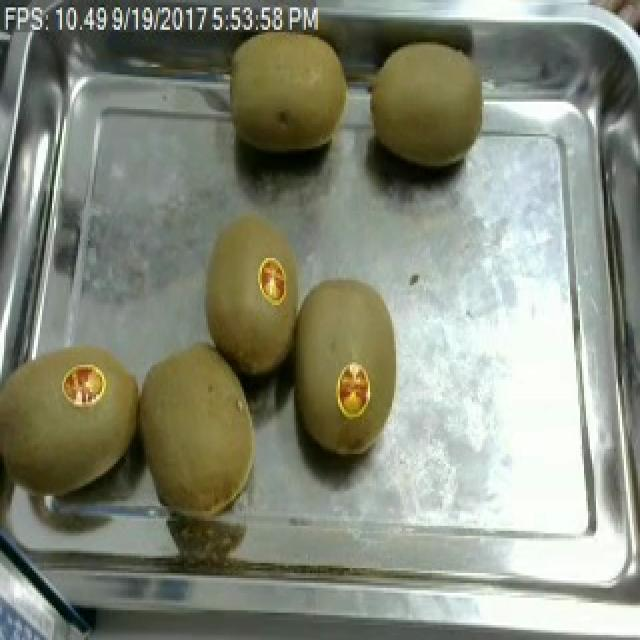Fruit: (124, 332, 268, 524), (276, 270, 408, 467), (0, 345, 154, 506), (362, 27, 496, 179), (222, 17, 356, 164), (192, 203, 298, 387)
